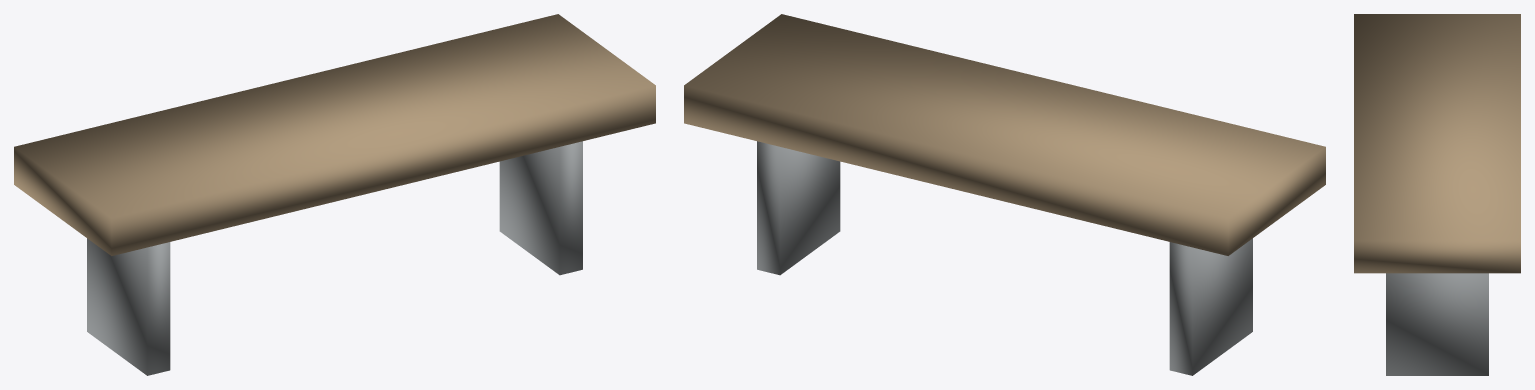
File: gallery_bench__deep.glb
The picture shows the model from 3 angles, left to right: view 1: azimuth 30°, elevation 25°; view 2: azimuth 150°, elevation 25°; view 3: azimuth 270°, elevation 25°; orthographic projection. The views are drawn at different scales.
Visible parts, largest first — view 1: world; view 2: world; view 3: world.
Boxes of the visible parts, x1=… form: world: x1=14, y1=14, x2=655, y2=375; world: x1=684, y1=14, x2=1325, y2=375; world: x1=1354, y1=14, x2=1520, y2=375.
Size of the model in its own units: 1.65 by 0.535 by 0.5124.
